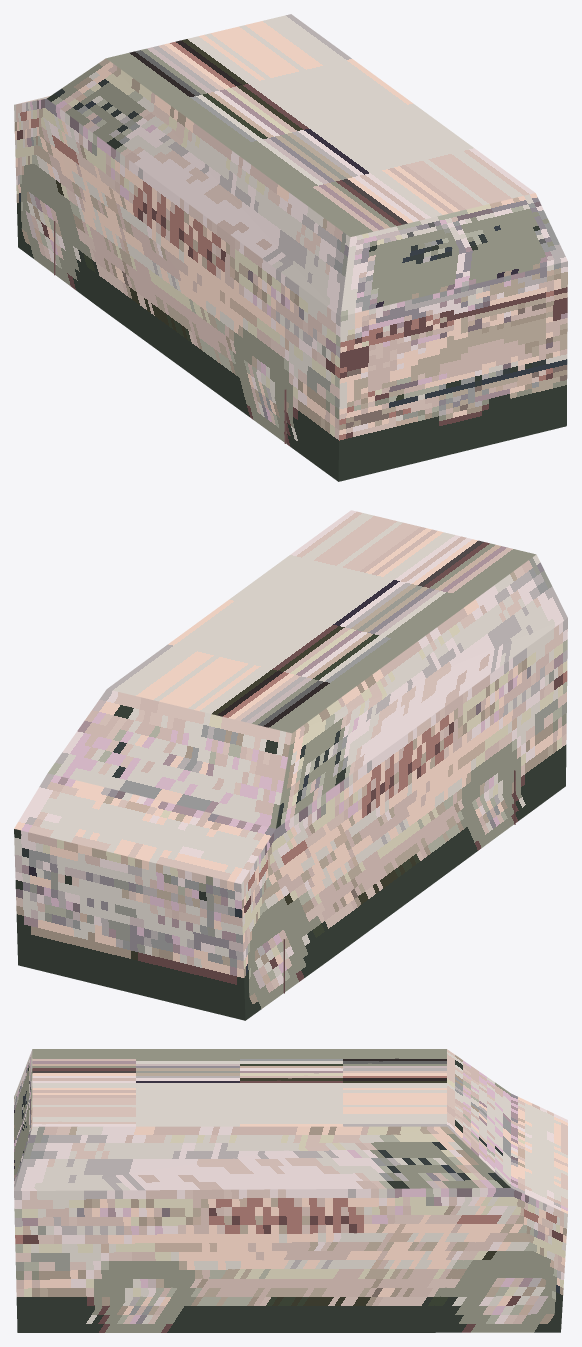
File: car-sasco.glb
3 renders of one model, top to bottom at view 1: azimuth 30°, elevation 25°; view 2: azimuth 150°, elevation 25°; view 3: azimuth 270°, elevation 25°, orthographic. The views are drawn at different scales.
Parts seen in each view (by area): view 1: car-sasco; view 2: car-sasco; view 3: car-sasco.
Boxes of the visible parts, x1=… form: car-sasco: x1=14, y1=14, x2=567, y2=481; car-sasco: x1=14, y1=510, x2=567, y2=1020; car-sasco: x1=14, y1=1049, x2=567, y2=1332.
Bounding box in the file's own units: 2.01 × 1.95 × 4.94.
12 materials, 12 textured.
